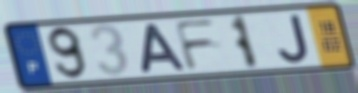1: (228, 12, 261, 71)
3: (88, 21, 134, 79)
9: (45, 25, 89, 82)
A: (138, 22, 188, 75)
F: (171, 17, 220, 73)
J: (276, 12, 312, 65)
